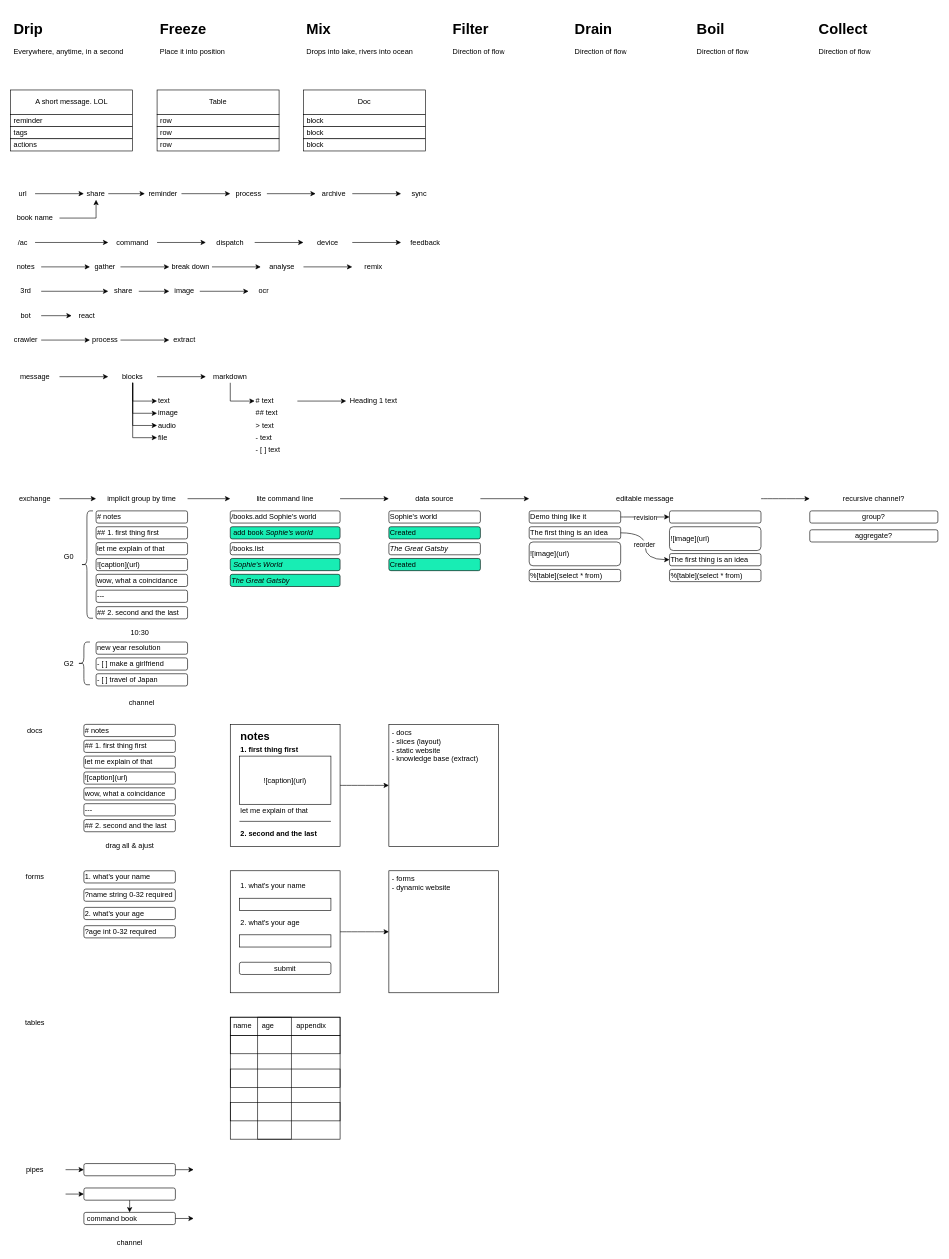
Image size: 949x1259. Some labels were removed from this diagram. Here are the shapes that lost their labels. From the top down, the centre of each, then its label:
At [715,516]: "Smash like it".
At [129,1169]: "markdown preprocessor".
At [129,1193]: "command preprocessor".
